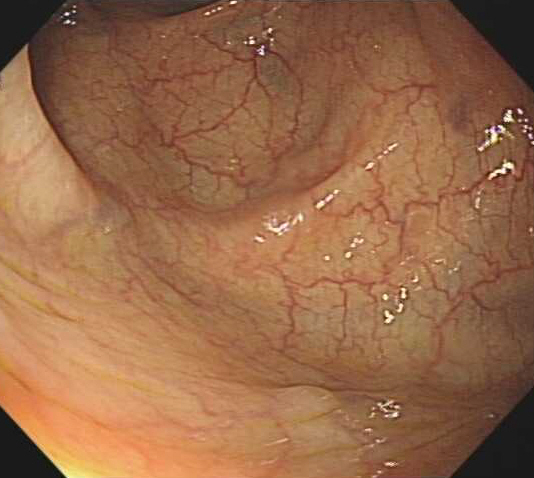others: (271, 379, 349, 455)
